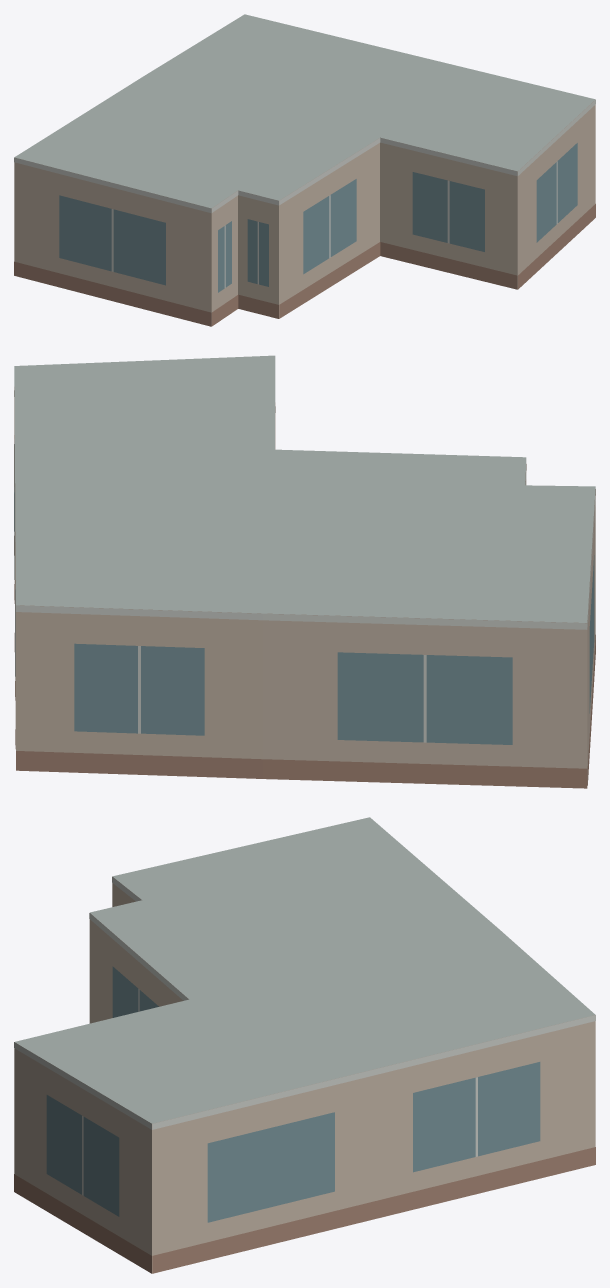
The model's file is survey-upis-32725493.glb.
3 renders of one model, top to bottom at view 1: azimuth 30°, elevation 25°; view 2: azimuth 150°, elevation 25°; view 3: azimuth 270°, elevation 25°, orthographic. The views are drawn at different scales.
Parts seen in each view (by area): view 1: survey-upis-32725493.tmp; view 2: survey-upis-32725493.tmp; view 3: survey-upis-32725493.tmp.
Boxes of the visible parts, left/top/right/bottom form: survey-upis-32725493.tmp: left=14, top=14, right=595, bottom=326; survey-upis-32725493.tmp: left=14, top=355, right=595, bottom=788; survey-upis-32725493.tmp: left=14, top=817, right=595, bottom=1273.
Size of the model in its own units: 13.39 by 3.05 by 10.73.
